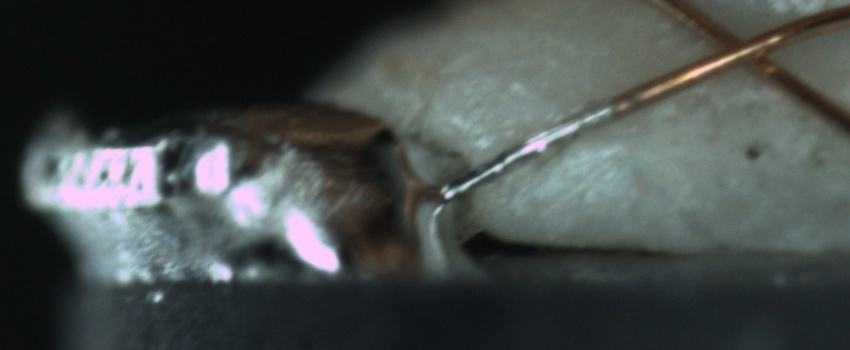CL: (691, 12, 798, 83)
TS: (432, 98, 608, 206)
TTCW: (432, 81, 656, 204)
